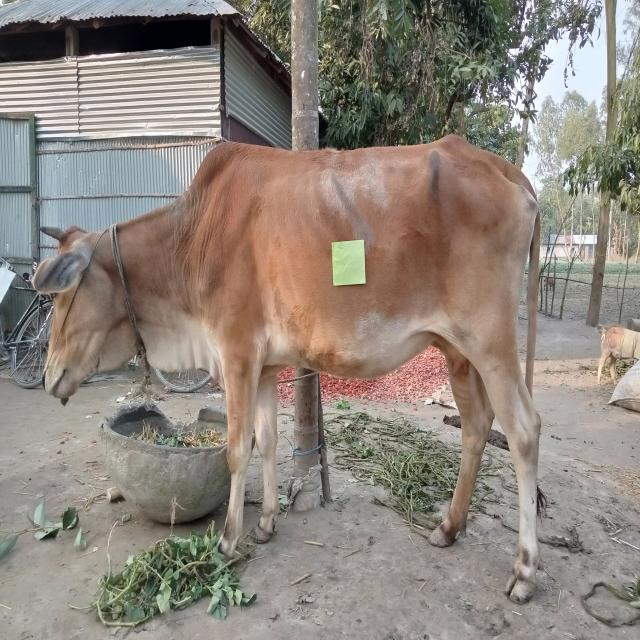badan_sapi: (222, 150, 518, 368)
sapi: (29, 141, 551, 608)
